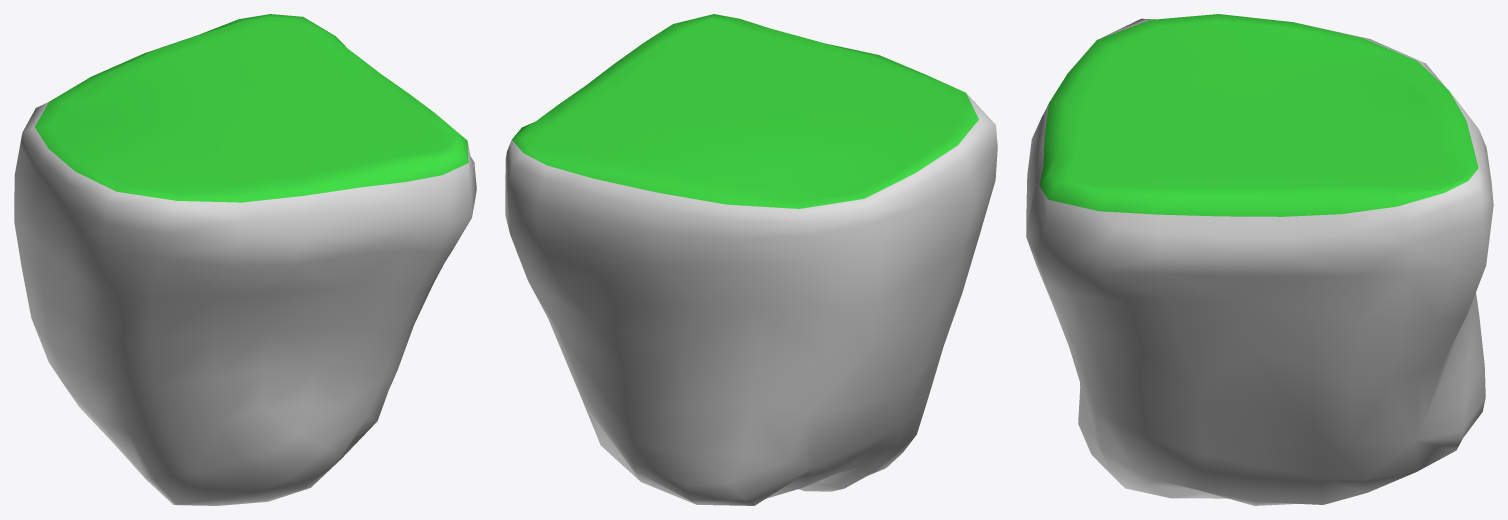
Rendered from platform_r_5_02.fbx.
3 views of the same model, side by side, from view 1: azimuth 30°, elevation 25°; view 2: azimuth 150°, elevation 25°; view 3: azimuth 270°, elevation 25° (orthographic). The views are drawn at different scales.
Parts seen in each view (by area): view 1: platform_l_02.003; view 2: platform_l_02.003; view 3: platform_l_02.003.
Part boxes in pixels (x1,y1,x2,y2): platform_l_02.003: (14,14,476,505); platform_l_02.003: (505,14,997,505); platform_l_02.003: (1026,14,1493,505).
Size of the model in its own units: 7.87 by 7.18 by 7.78.
